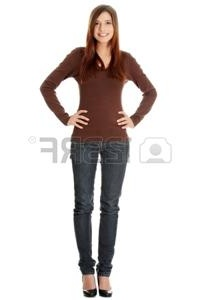arm: (41, 48, 79, 109), (120, 50, 158, 109)
chest: (80, 70, 120, 109)
face: (90, 4, 118, 44)
foot: (81, 275, 98, 298), (100, 275, 113, 297)
hand: (70, 110, 92, 130), (116, 110, 136, 132)
leg: (100, 139, 132, 276), (71, 139, 96, 274)
neck: (93, 44, 119, 69)
